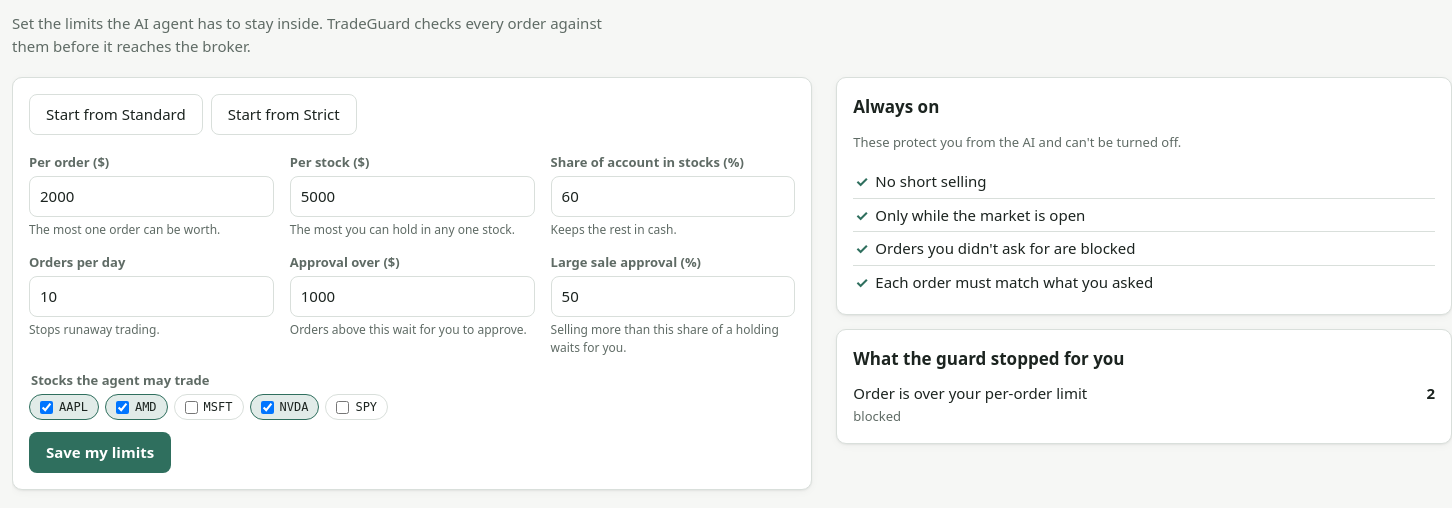
it: LimitsPage › lets the trader change limits and saves them
Replace the text in the number field labelled "Per order ($)" with "1500" at point(151, 196), box [29,176,274,216]
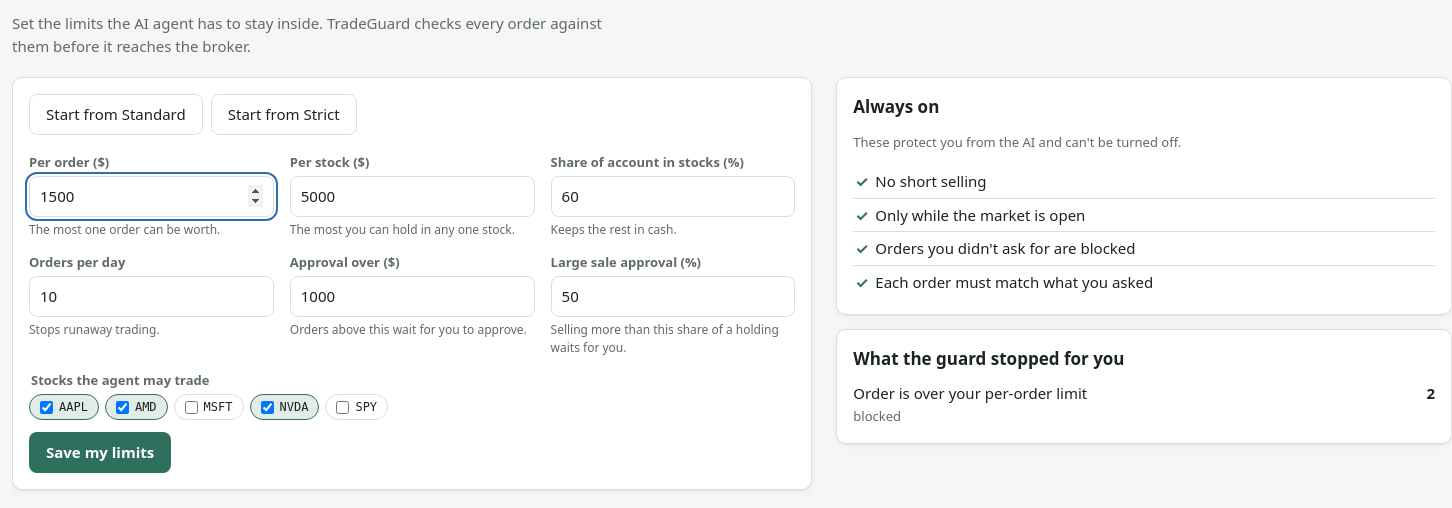
Click the checkbox labelled "MSFT" at point(191, 407), box [185,400,198,414]
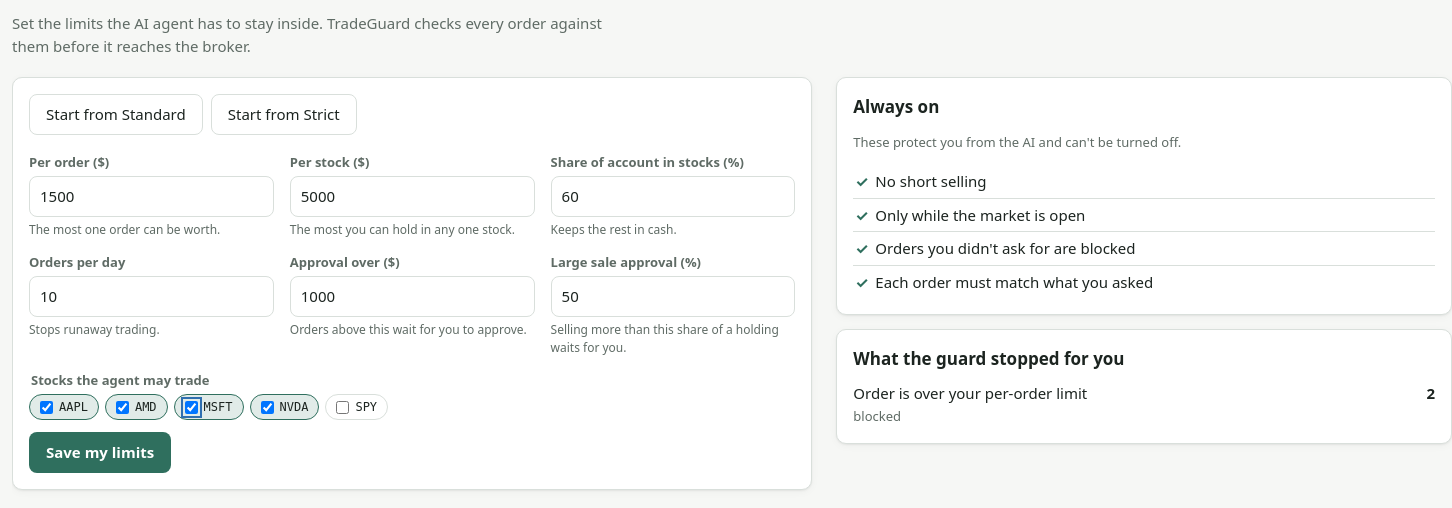
Click the button "Save my limits" at point(100, 452), box [29,432,171,472]
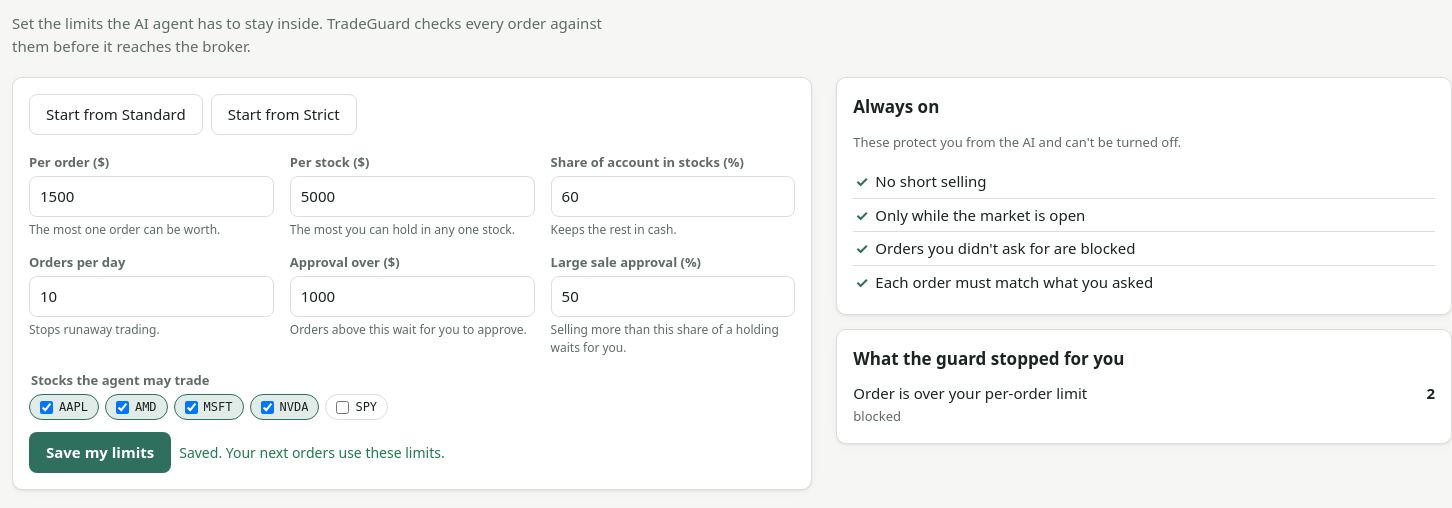
expect the text "Saved. Your next orders use these limits." is shown: met, box [179,442,445,463]
